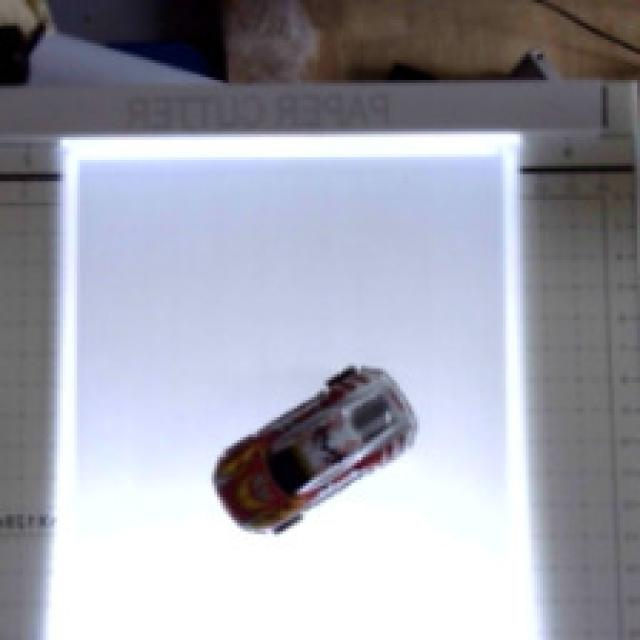Red Car: (187, 320, 449, 567)
